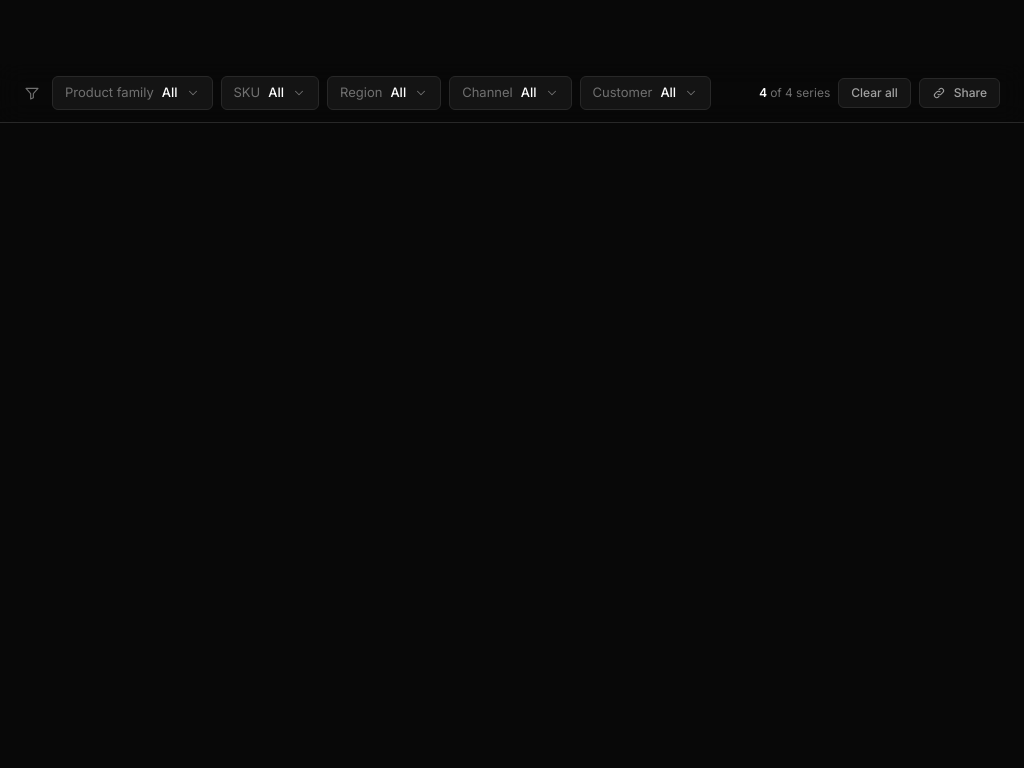
Scenario: global filter bar › selecting a family updates the URL, the count and cascades the SKU list
The width and height of the screenshot is (1024, 768).
Click the button "Product family All": (132, 93) [52, 76, 212, 110]
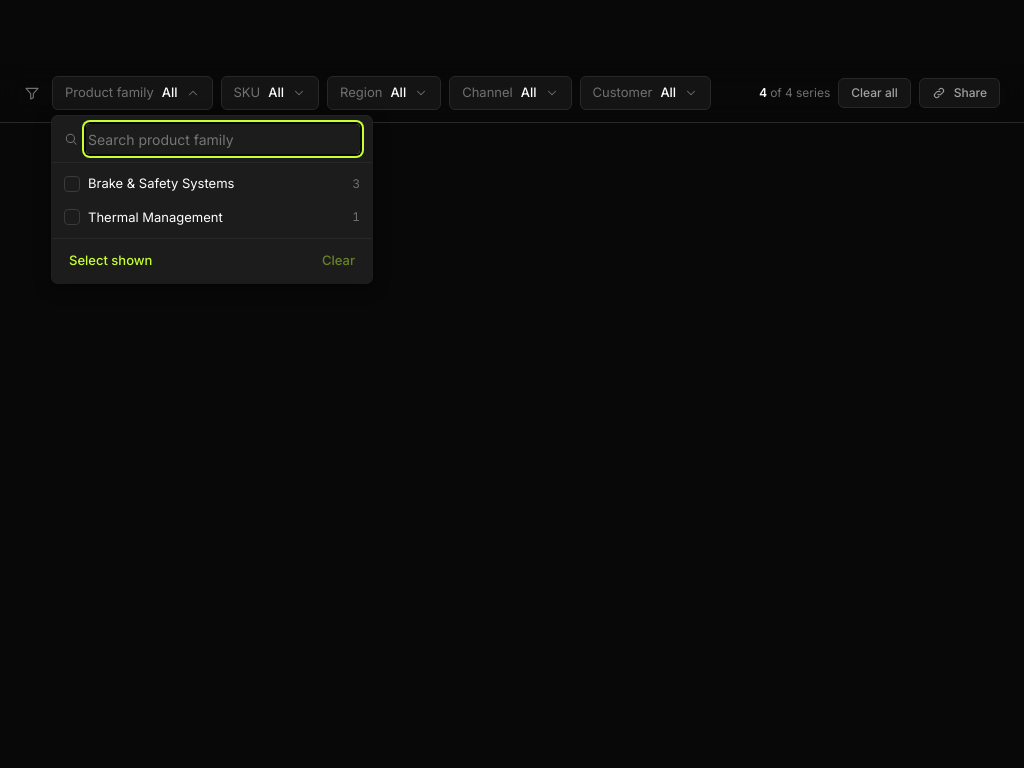
Click the text "Thermal Management": (155, 216) [88, 208, 223, 224]
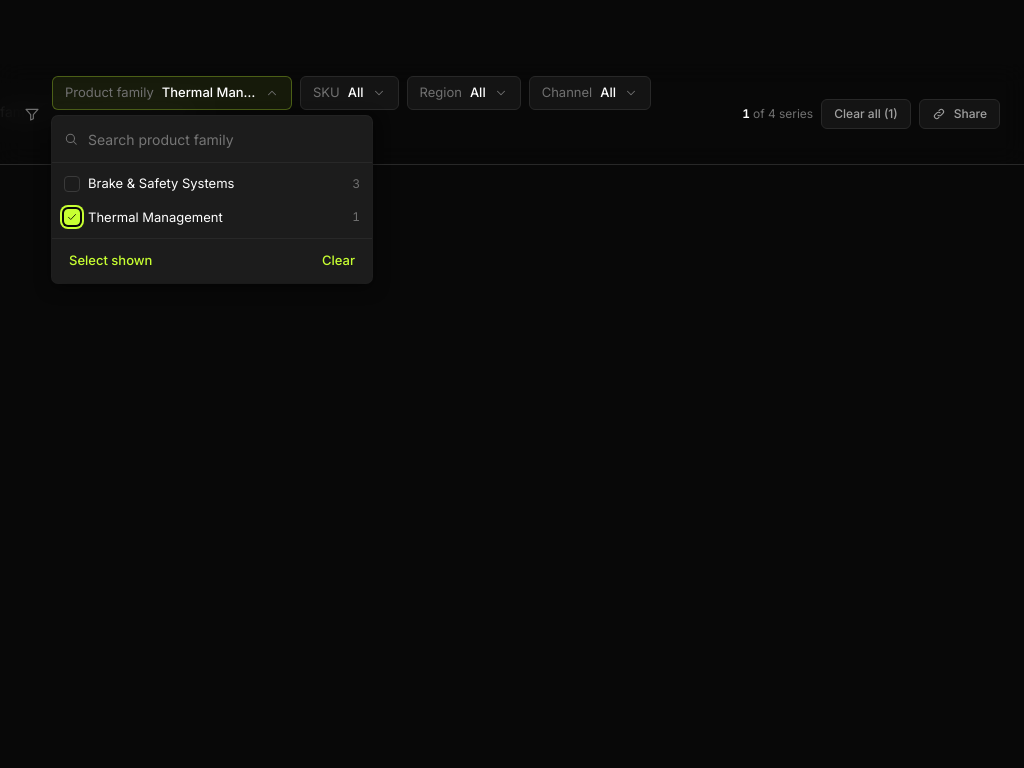
Expected: the text with test id "location" reads "family=Thermal Management", [0, 103, 193, 120]
Expected: the text "1 of 4 series" is shown, [742, 105, 813, 123]
Press Escape
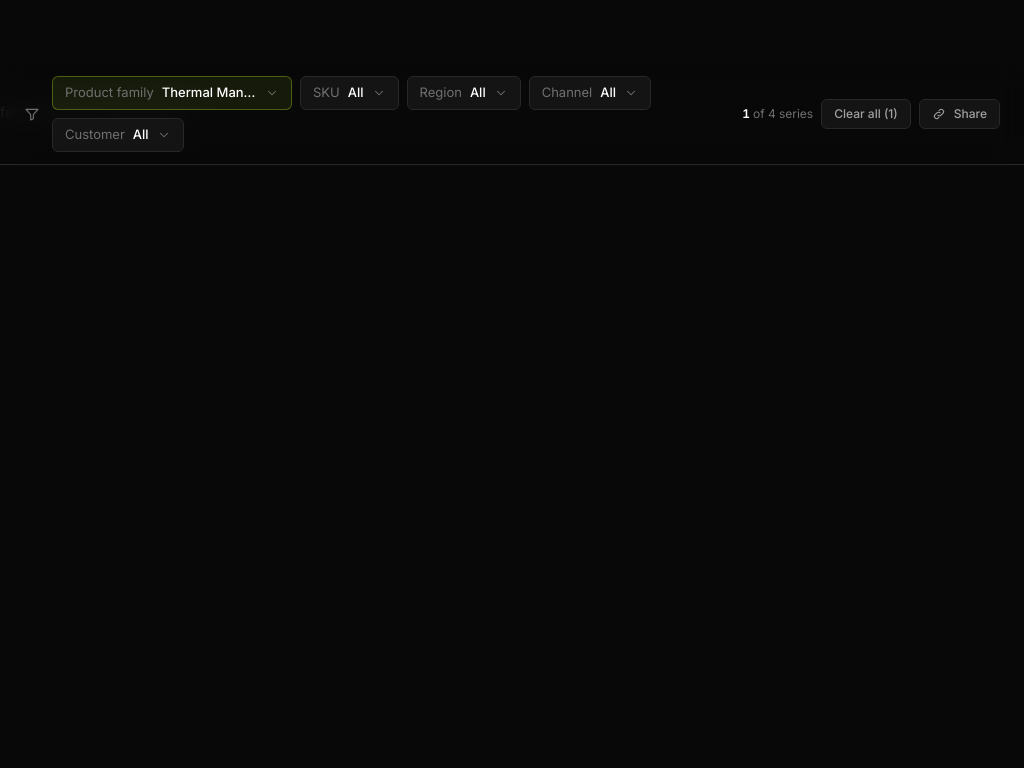
Click the button "SKU All": (349, 93) [300, 76, 398, 110]
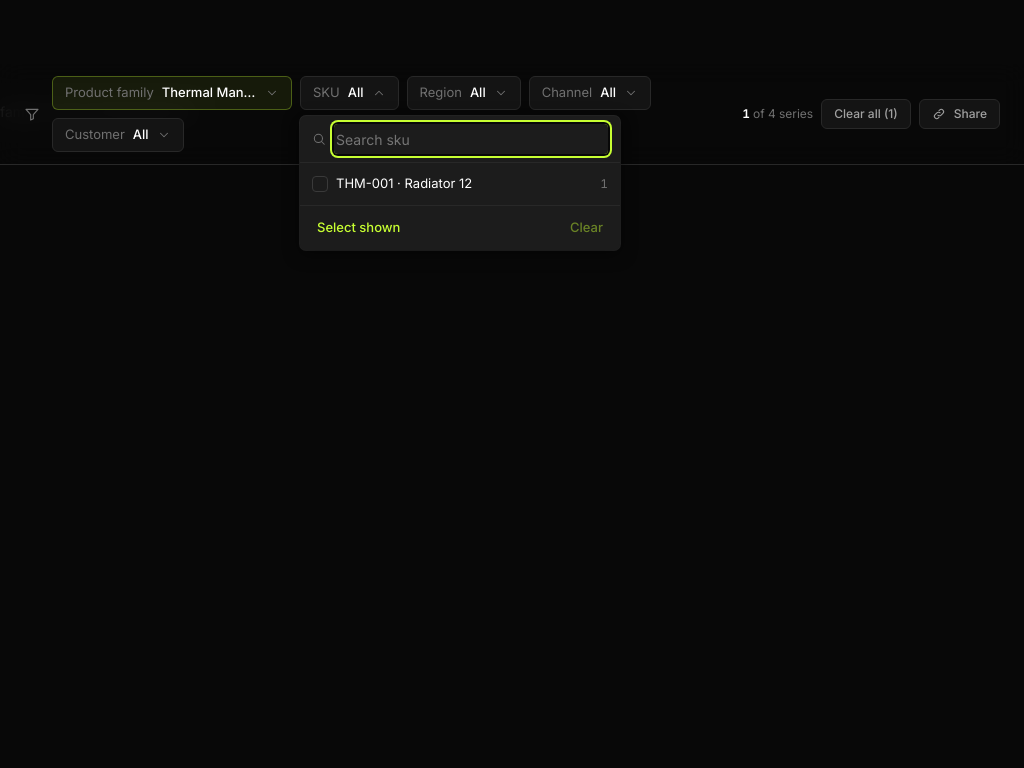
Expected: the number of options is 1, [312, 175, 608, 192]
Expected: the text "THM-001 · Radiator 12" is shown, [336, 175, 472, 191]
